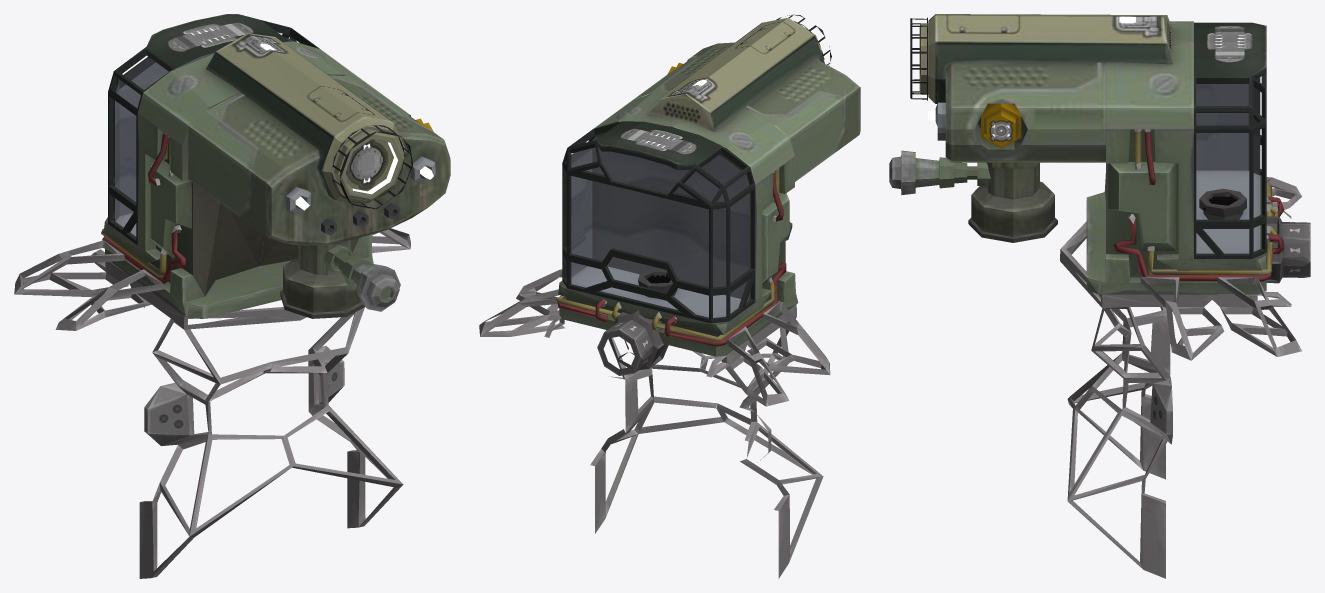
Rendered from outfall-1.glb.
3 views of the same model, side by side, from view 1: azimuth 30°, elevation 25°; view 2: azimuth 150°, elevation 25°; view 3: azimuth 270°, elevation 25° (orthographic). The views are drawn at different scales.
Parts seen in each view (by area): view 1: Cylinder.007; view 2: Cylinder.007; view 3: Cylinder.007.
Part boxes in pixels (x1,y1,x2,y2): Cylinder.007: [14, 14, 450, 578]; Cylinder.007: [479, 14, 860, 578]; Cylinder.007: [889, 14, 1310, 578].
Bounding box in the file's own units: 30.09 × 42.26 × 31.51.
Materials: 1 (1 with a texture image).
